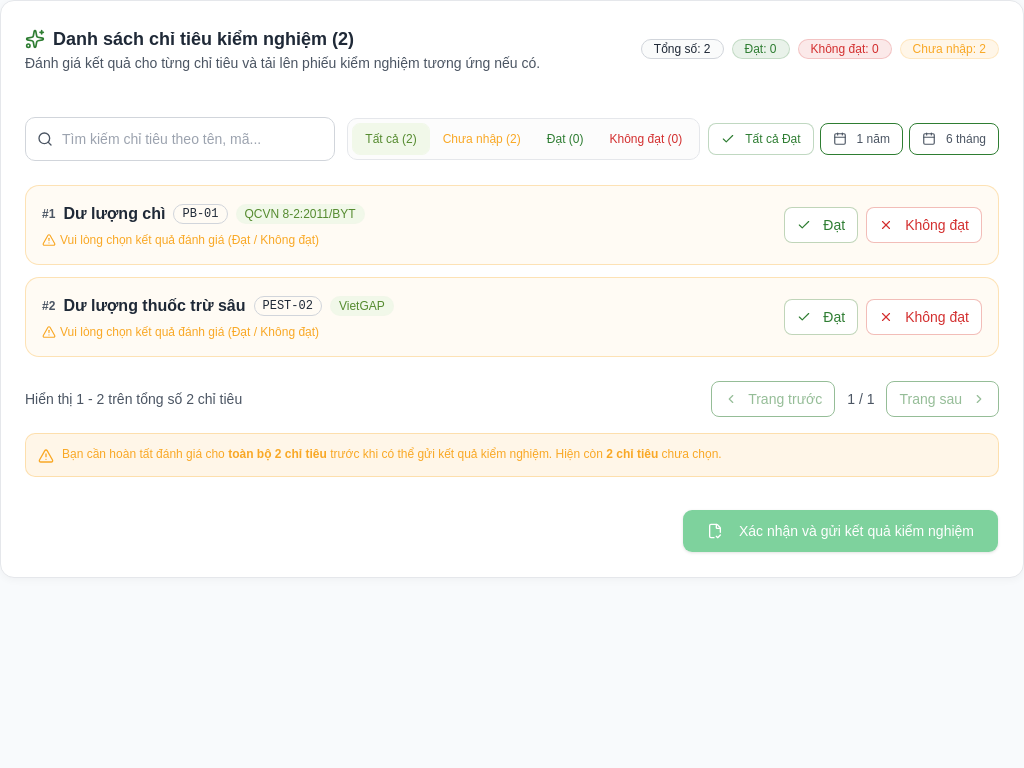
Test: InspectionResultEntryForm › marks all as passed when clicking "Tất cả Đạt"
Click the button "Tất cả Đạt".
click(761, 139)  # box [708,123,814,155]
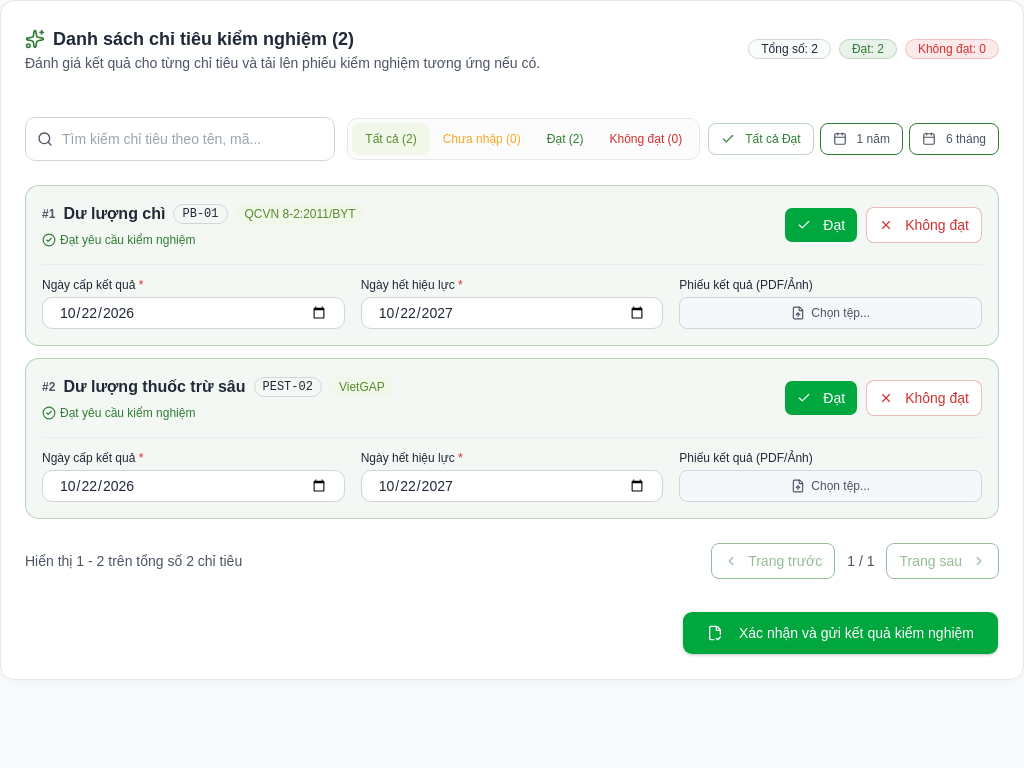
expect the icon "Đạt: 2" is shown: met, box [839,39,897,59]
expect the text "Chưa nhập:" is gone: met
expect the button "Xác nhận và gửi kết quả kiểm nghiệm" is enabled: met, box [682,611,999,655]
